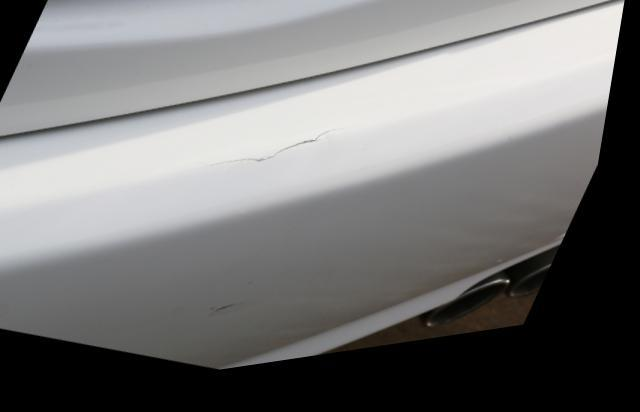crack: (209, 137, 356, 175)
